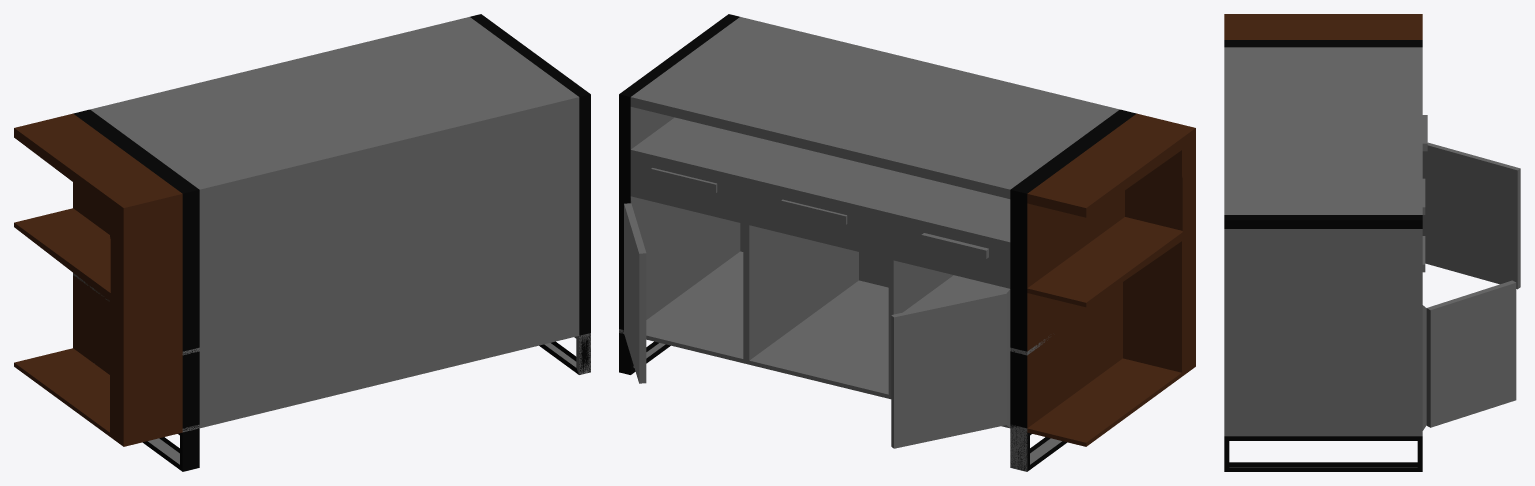
Rendered from mueble tv.dae.
3 views of the same model, side by side, from view 1: azimuth 30°, elevation 25°; view 2: azimuth 150°, elevation 25°; view 3: azimuth 270°, elevation 25° (orthographic). The views are drawn at different scales.
Visible parts, largest first — view 1: Cube.001; view 2: Cube.001; view 3: Cube.001.
Boxes of the visible parts, x1,y1,x2,y2 form: Cube.001: (14,14,590,471); Cube.001: (619,14,1195,471); Cube.001: (1224,14,1520,471).
Bounding box in the file's own units: 1.23 × 0.7471 × 0.7.
